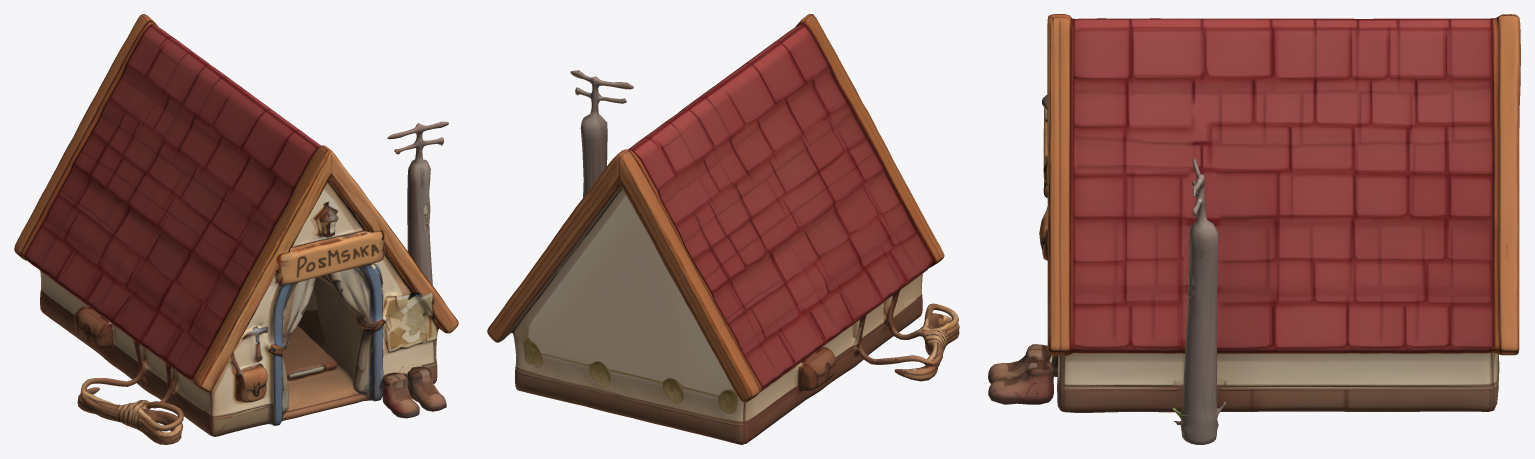
The model's file is Pos.glb.
The picture shows the model from 3 angles, left to right: view 1: azimuth 30°, elevation 25°; view 2: azimuth 150°, elevation 25°; view 3: azimuth 270°, elevation 25°; orthographic projection. The views are drawn at different scales.
Visible parts, largest first — view 1: model; view 2: model; view 3: model.
Part boxes in pixels (x1,y1,x2,y2): model: (14,14,458,444); model: (487,14,959,444); model: (988,14,1520,444).
Bounding box in the file's own units: 1.86 × 1.32 × 1.91.
Materials: 1 (1 with a texture image).
